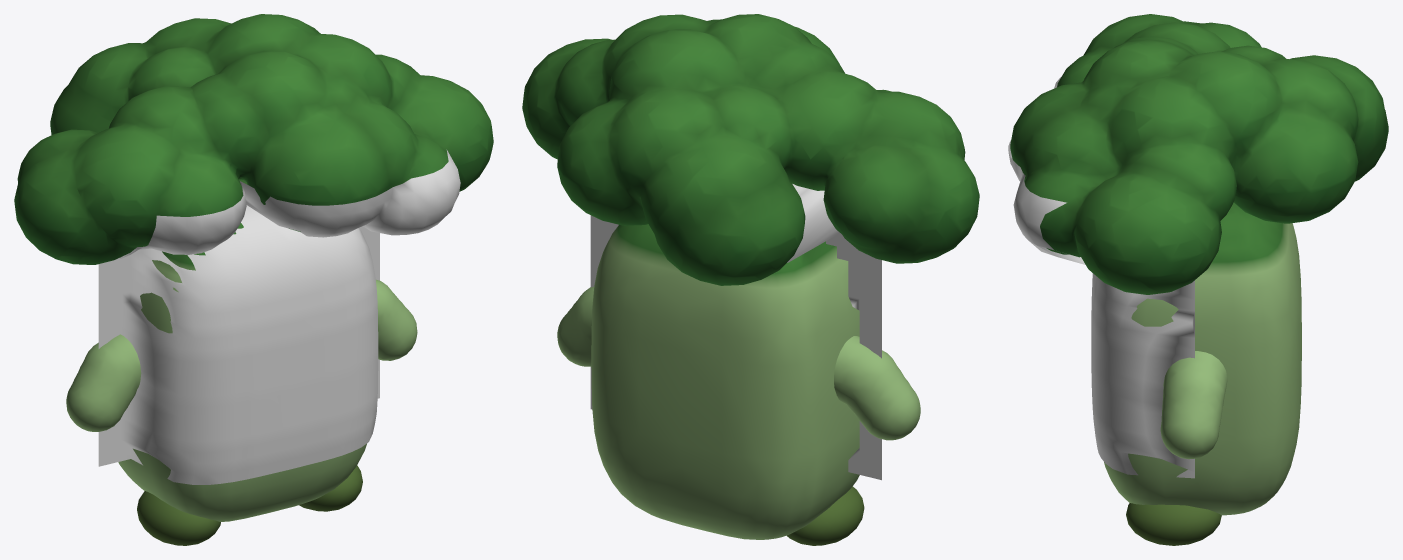
The model's file is folk2_stalk_lod1.glb.
3 renders of one model, left to right at view 1: azimuth 30°, elevation 25°; view 2: azimuth 150°, elevation 25°; view 3: azimuth 270°, elevation 25°, orthographic. The views are drawn at different scales.
Visible parts, largest first — view 1: stalk_body, stalk_face, stalk_arm_l, stalk_foot_l, stalk_arm_r, stalk_foot_r; view 2: stalk_body, stalk_face, stalk_arm_l, stalk_foot_l, stalk_arm_r; view 3: stalk_body, stalk_face, stalk_arm_r, stalk_foot_r.
Boxes of the visible parts, left/top/right/bottom form: stalk_body: left=14, top=14, right=493, bottom=521; stalk_face: left=98, top=149, right=460, bottom=484; stalk_arm_l: left=66, top=334, right=141, bottom=431; stalk_foot_l: left=137, top=491, right=220, bottom=545; stalk_arm_r: left=376, top=279, right=417, bottom=360; stalk_foot_r: left=299, top=465, right=362, bottom=511; stalk_body: left=522, top=14, right=979, bottom=539; stalk_face: left=590, top=184, right=881, bottom=480; stalk_arm_l: left=834, top=336, right=920, bottom=440; stalk_foot_l: left=786, top=486, right=864, bottom=545; stalk_arm_r: left=557, top=286, right=594, bottom=366; stalk_body: left=1010, top=14, right=1388, bottom=515; stalk_face: left=1008, top=77, right=1194, bottom=478; stalk_arm_r: left=1160, top=351, right=1227, bottom=459; stalk_foot_r: left=1126, top=503, right=1221, bottom=545.
Bounding box in the file's own units: 0.8187 × 0.8409 × 0.6192.
